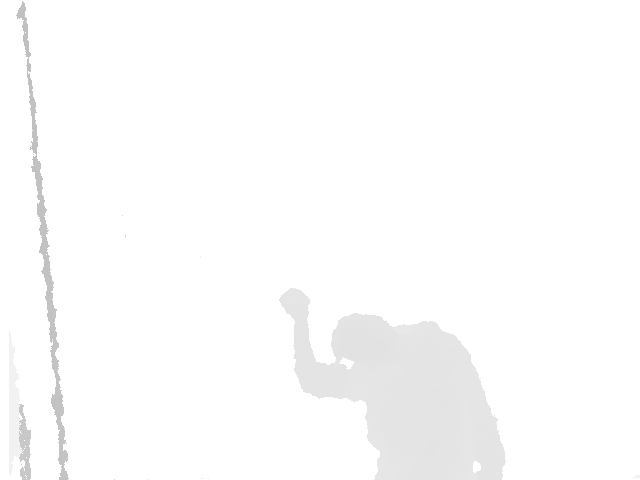hand: (279, 288, 312, 321)
head: (331, 312, 397, 365)
person: (279, 288, 507, 480)
